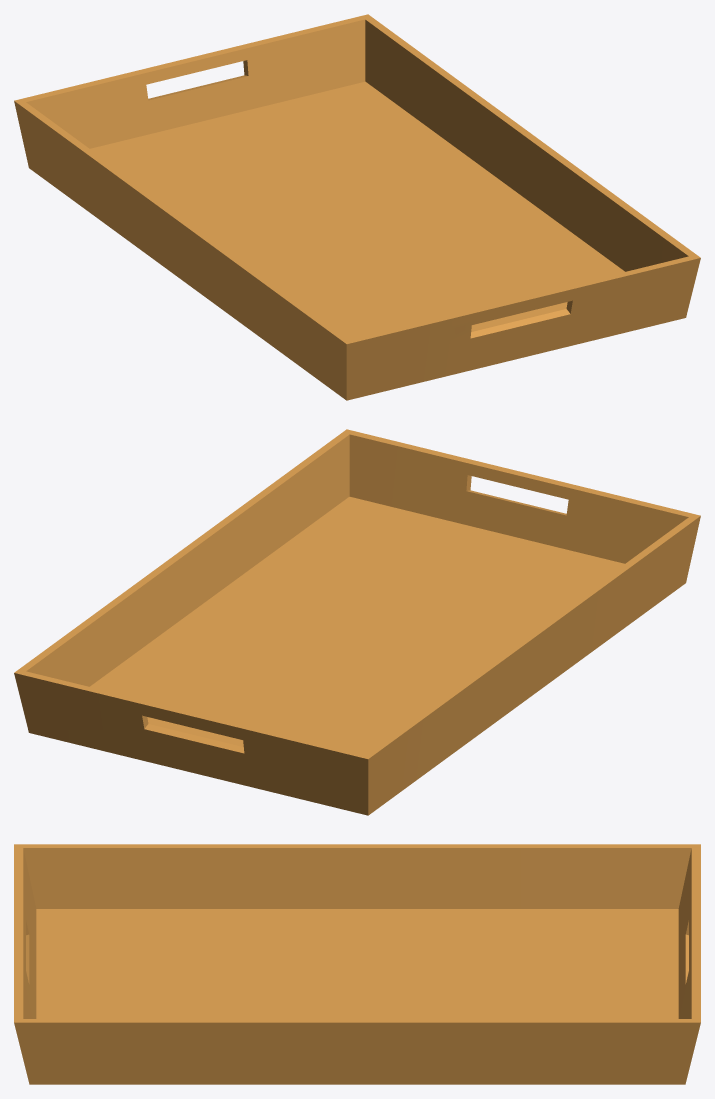
Rendered from FoodProp_4_1_A.fbx.
3 views of the same model, one above another, from view 1: azimuth 30°, elevation 25°; view 2: azimuth 150°, elevation 25°; view 3: azimuth 270°, elevation 25° (orthographic). The views are drawn at different scales.
Parts seen in each view (by area): view 1: FoodProp_4_1_A; view 2: FoodProp_4_1_A; view 3: FoodProp_4_1_A.
Boxes of the visible parts, x1,y1,x2,y2 form: FoodProp_4_1_A: (14,14,700,400); FoodProp_4_1_A: (14,429,700,815); FoodProp_4_1_A: (14,844,700,1084).
Bounding box in the file's own units: 37.22 × 6.4 × 60.57.
